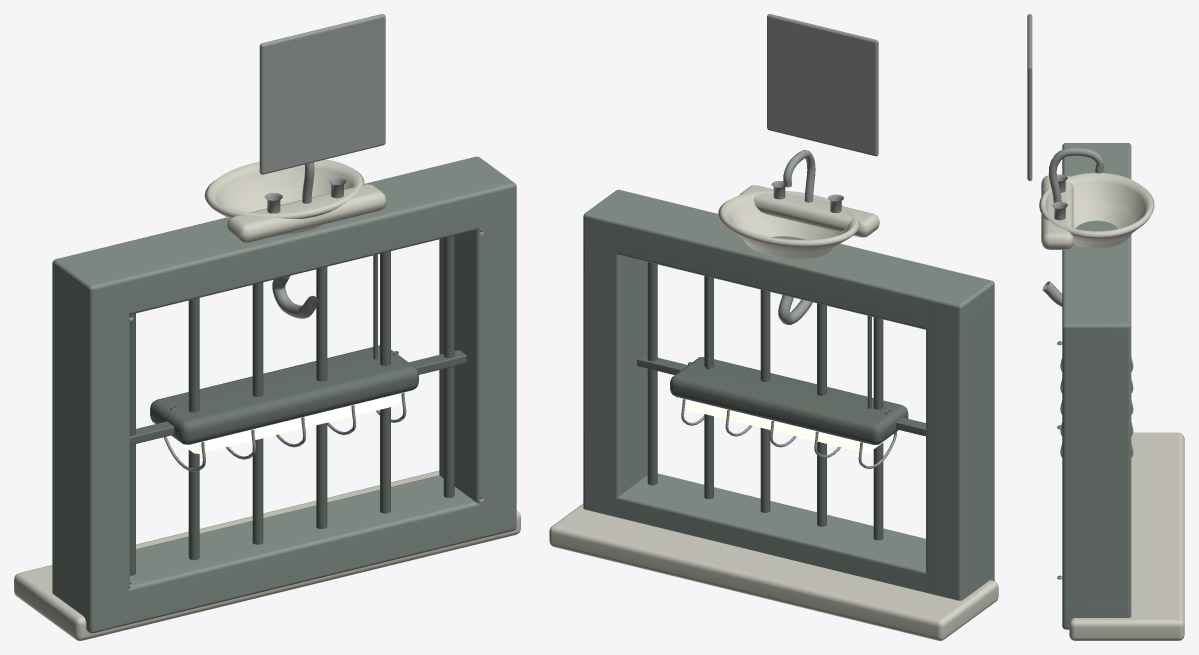
File: retained-fixtures.glb
3 renders of one model, left to right at view 1: azimuth 30°, elevation 25°; view 2: azimuth 150°, elevation 25°; view 3: azimuth 270°, elevation 25°, orthographic. The views are drawn at different scales.
Visible parts, largest first — view 1: WindowMesh, SinkMesh, LuminaireMesh; view 2: WindowMesh, SinkMesh, LuminaireMesh; view 3: WindowMesh, SinkMesh, LuminaireMesh.
Boxes of the visible parts, <box> form: WindowMesh: <box>14,156,520,640</box>; SinkMesh: <box>204,14,386,318</box>; LuminaireMesh: <box>150,254,418,471</box>; WindowMesh: <box>549,189,998,640</box>; SinkMesh: <box>718,14,879,324</box>; LuminaireMesh: <box>670,276,908,468</box>; WindowMesh: <box>1057,143,1184,640</box>; SinkMesh: <box>1027,14,1154,306</box>; LuminaireMesh: <box>1060,358,1133,457</box>.
Size of the model in its own units: 1.96 by 2.43 by 0.681.
